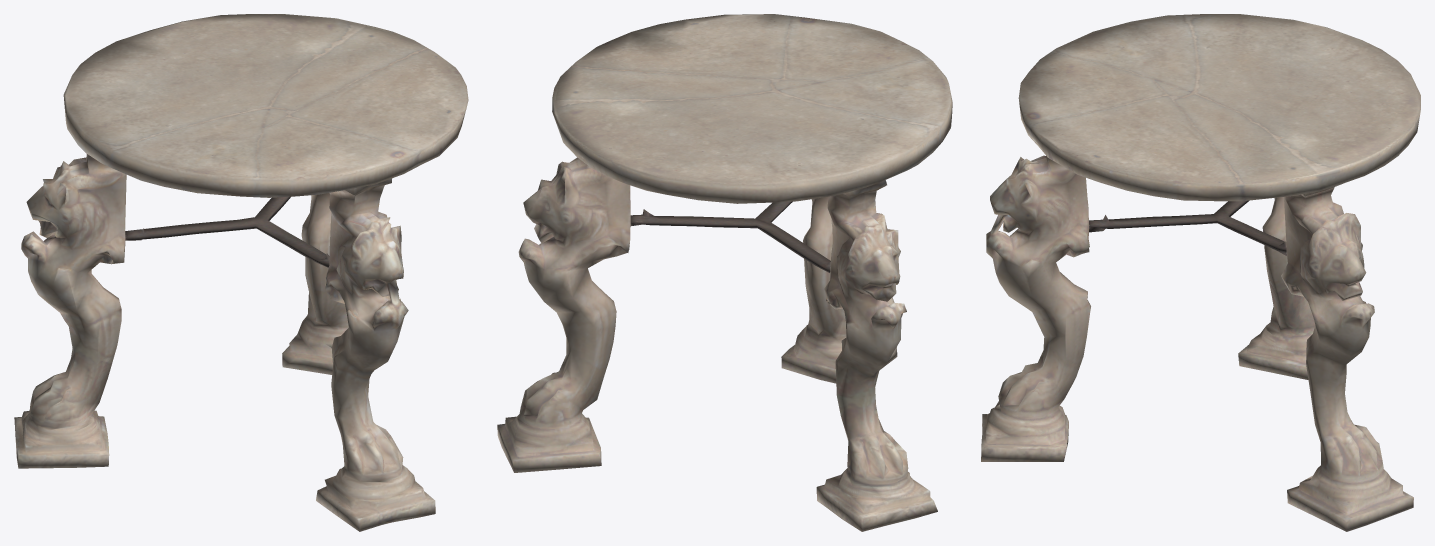
File: roman_marble_table.glb
3 views of the same model, side by side, from view 1: azimuth 30°, elevation 25°; view 2: azimuth 150°, elevation 25°; view 3: azimuth 270°, elevation 25° (orthographic).
Parts seen in each view (by area): view 1: Object_2; view 2: Object_2; view 3: Object_2.
Boxes of the visible parts, left/top/right/bottom form: Object_2: left=14, top=14, right=468, bottom=531; Object_2: left=497, top=14, right=952, bottom=531; Object_2: left=981, top=14, right=1420, bottom=531.
Bounding box in the file's own units: 0.9107 × 0.7257 × 0.8467.
Materials: 1 (1 with a texture image).
